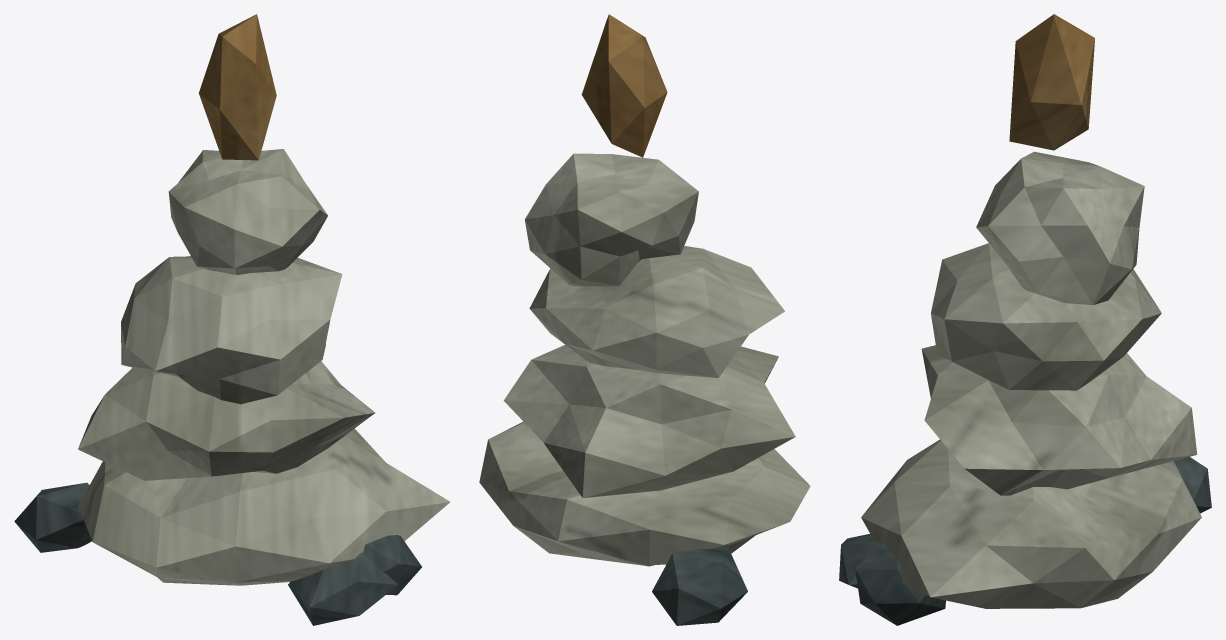
File: 0619_cairn_19.glb
3 views of the same model, side by side, from view 1: azimuth 30°, elevation 25°; view 2: azimuth 150°, elevation 25°; view 3: azimuth 270°, elevation 25° (orthographic). The views are drawn at different scales.
Parts seen in each view (by area): view 1: stone_light, stone_dark, brass; view 2: stone_light, brass, stone_dark; view 3: stone_light, brass, stone_dark.
Boxes of the visible parts, x1=… form: stone_light: x1=78, y1=149, x2=450, y2=585; stone_dark: x1=14, y1=482, x2=421, y2=625; brass: x1=198, y1=14, x2=276, y2=160; stone_light: x1=479, y1=153, x2=810, y2=566; brass: x1=581, y1=14, x2=667, y2=157; stone_dark: x1=652, y1=544, x2=747, y2=625; stone_light: x1=861, y1=151, x2=1201, y2=608; brass: x1=1009, y1=14, x2=1094, y2=150; stone_dark: x1=839, y1=457, x2=1211, y2=625.
Bounding box in the file's own units: 1.13 × 1.84 × 1.07.
Materials: 3 (3 with a texture image).
